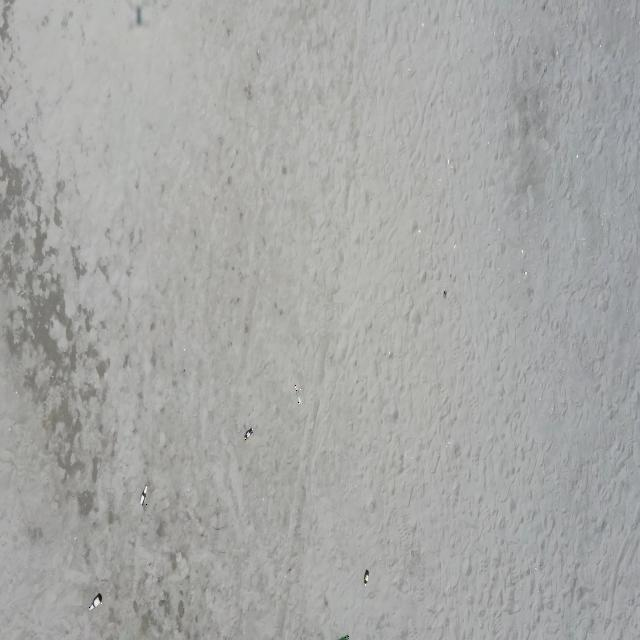glass: (89, 593, 102, 611), (294, 385, 302, 406), (140, 485, 147, 506), (244, 427, 253, 441), (364, 569, 369, 587), (338, 634, 349, 640)
